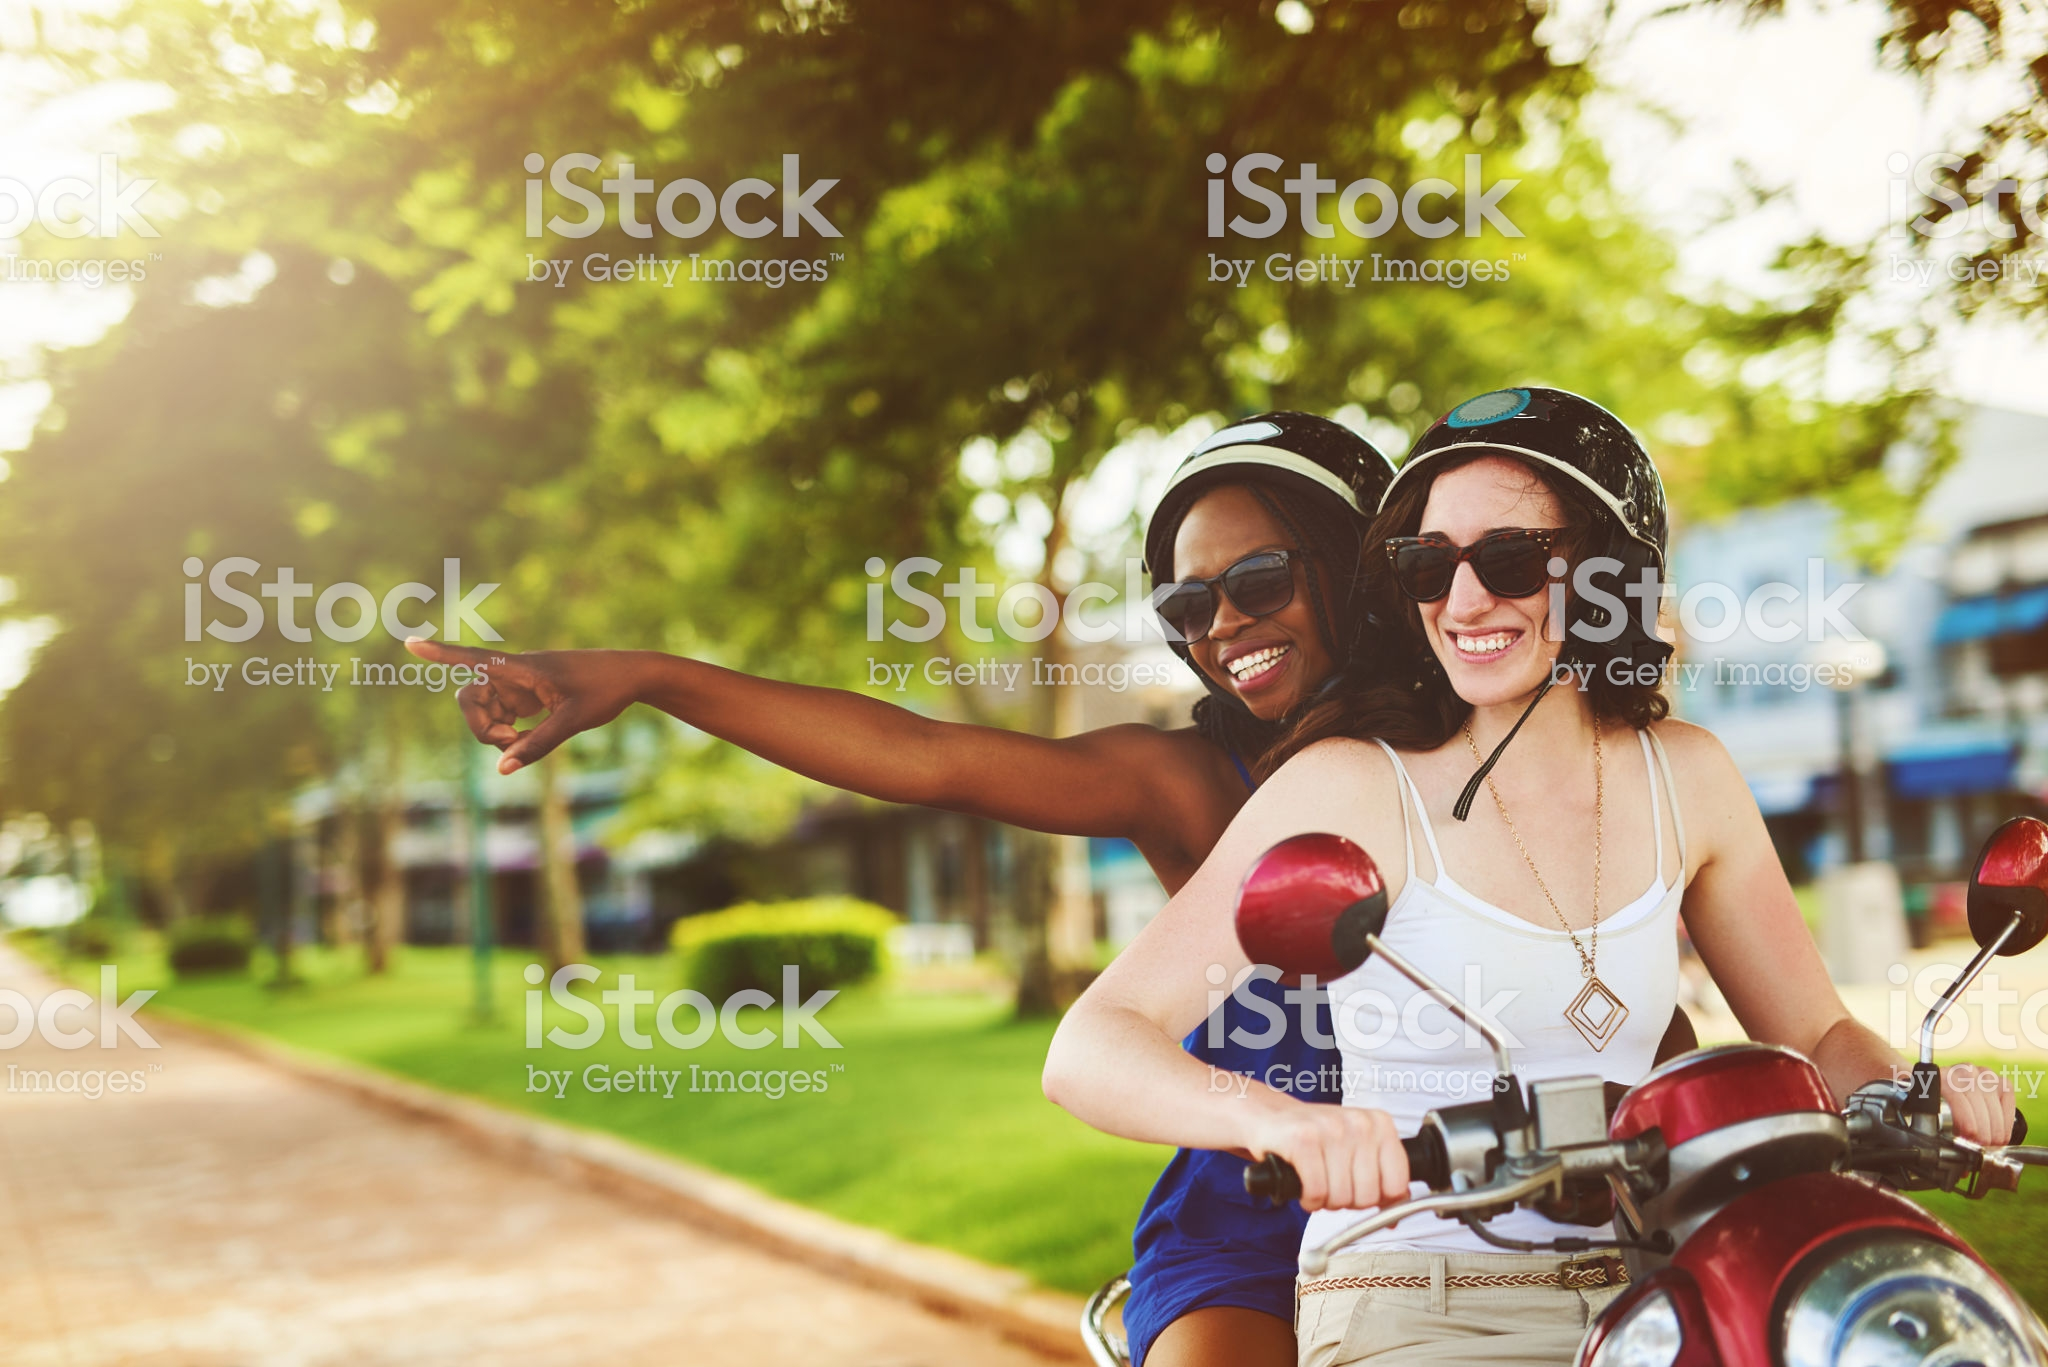helmet: (1372, 384, 1665, 539), (1141, 420, 1398, 526)
